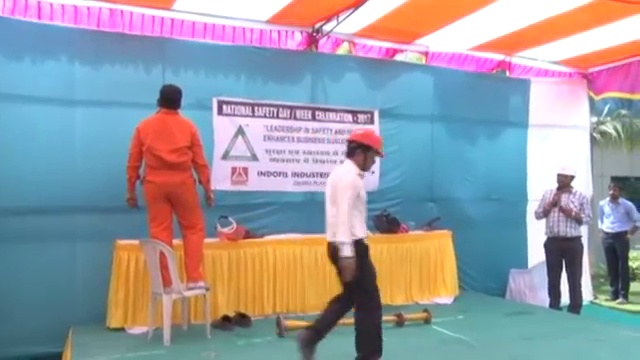helmet: (346, 127, 386, 158), (555, 164, 578, 179)
helmet_off: (156, 82, 182, 113), (605, 178, 623, 202)
helmet_on: (339, 127, 387, 181), (551, 165, 581, 196)
person: (298, 127, 386, 360), (123, 82, 217, 294), (531, 164, 591, 318), (597, 173, 639, 304)
